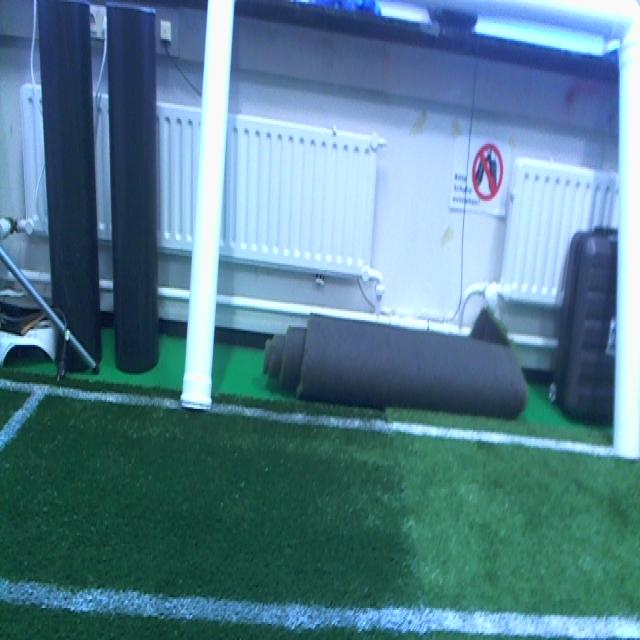goalpost: (180, 2, 238, 409), (612, 3, 638, 460)
